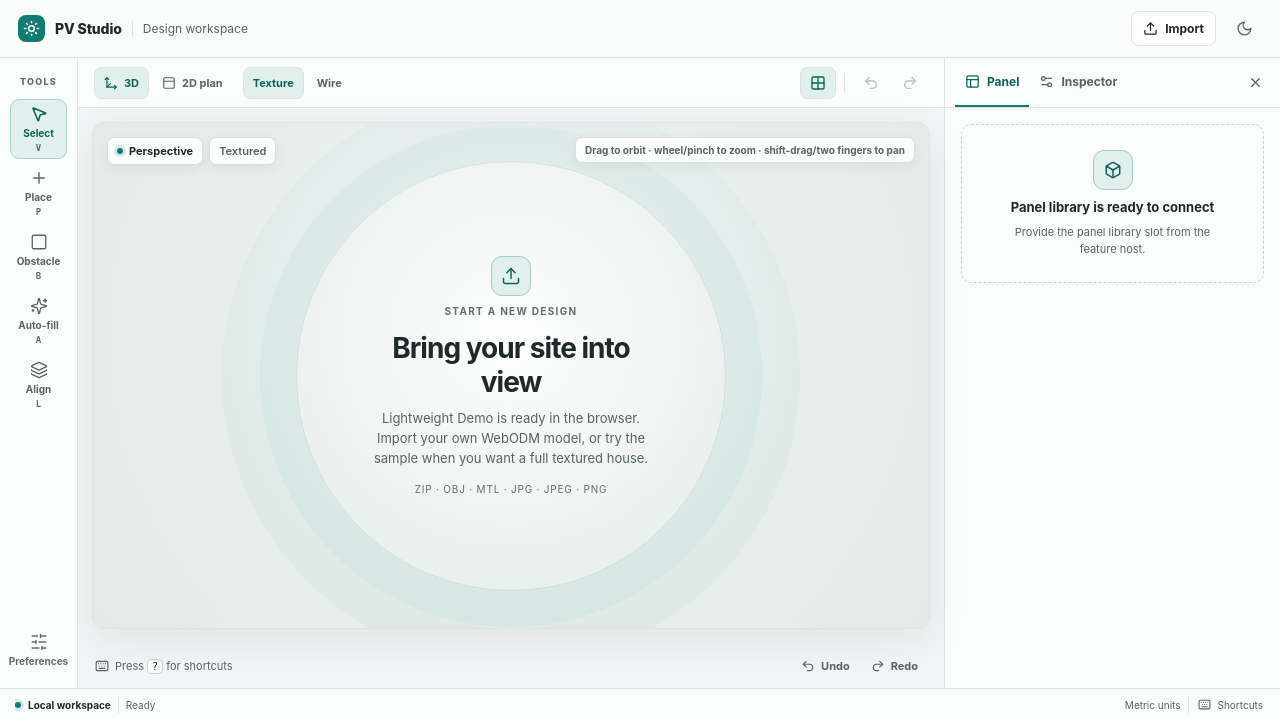
Test: Shell › allows typed array setting edits in the fallback inspector
Click the tab "Inspector" at (1078, 82), box [1030,58,1127,107]
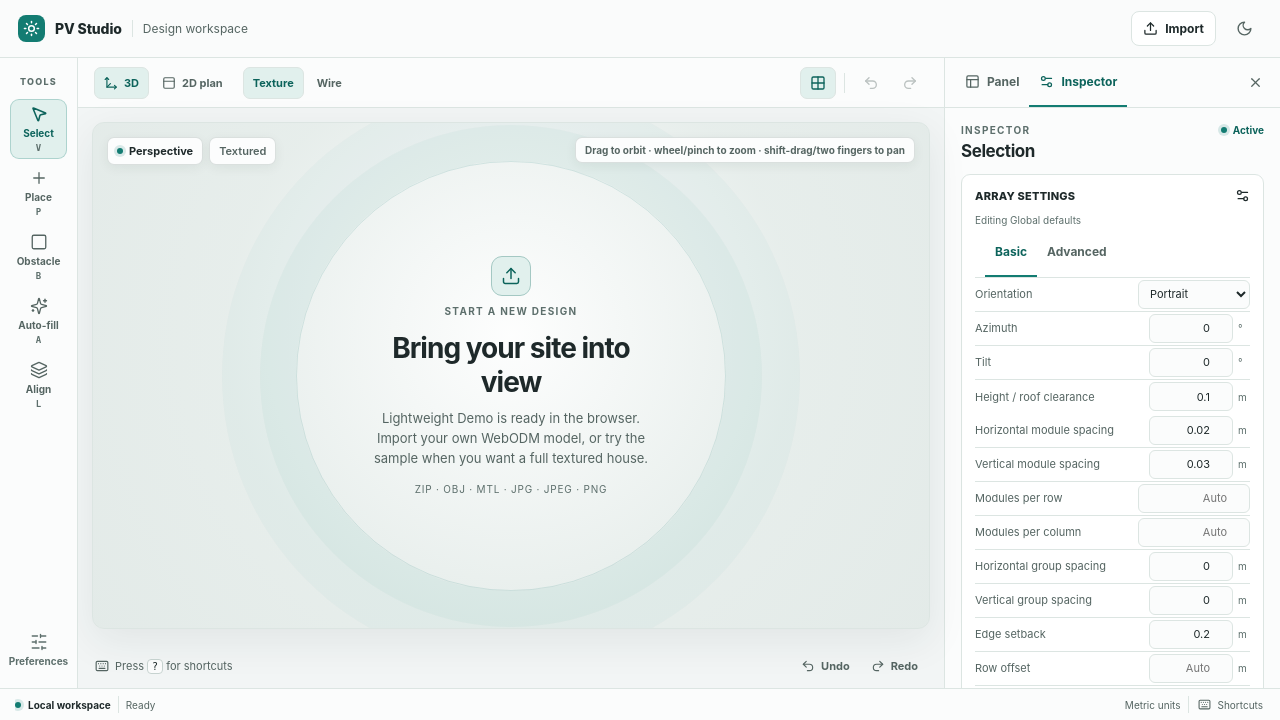
Select "Landscape" in the dropdown named "Panel orientation" at (1194, 294), box [1138,280,1250,308]
Replace the text in the number field named "Edge setback in metres" with "0.3" at (1191, 634), box [1149,620,1233,648]
(page scrolled)
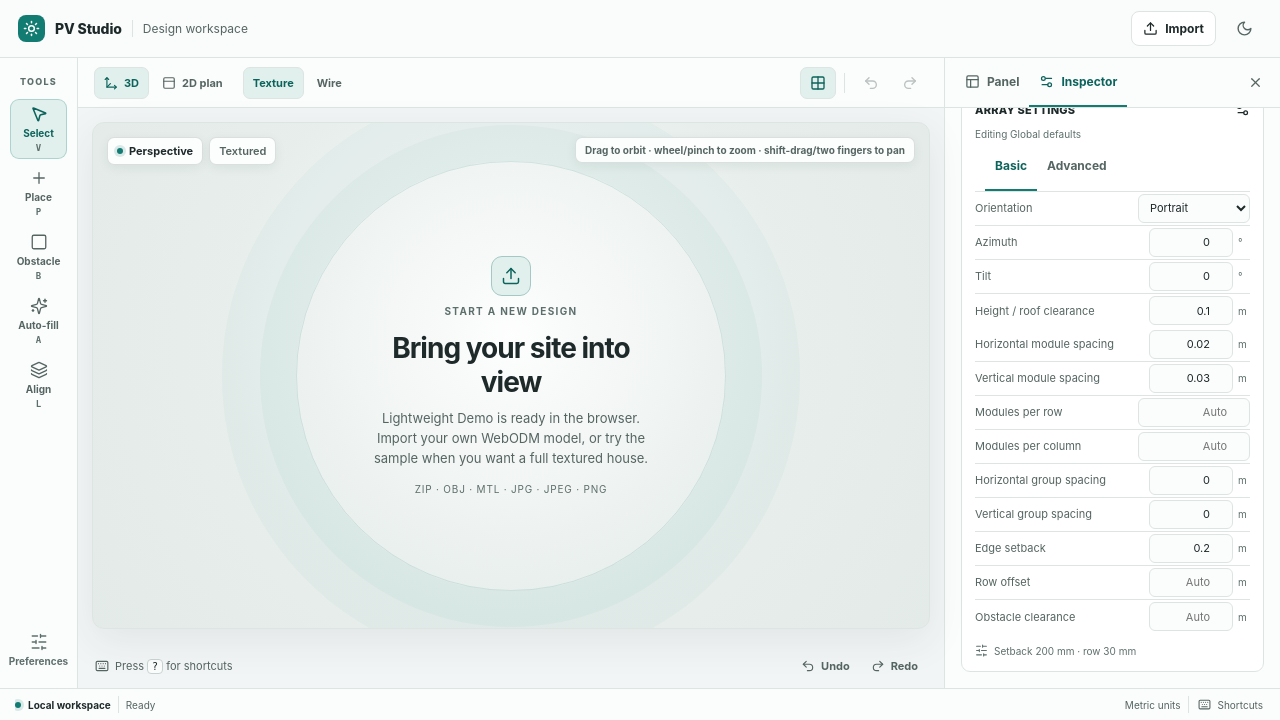
Check: the text "Setback 200 mm · row 30 mm" is shown, box [975,644,1136,657]
